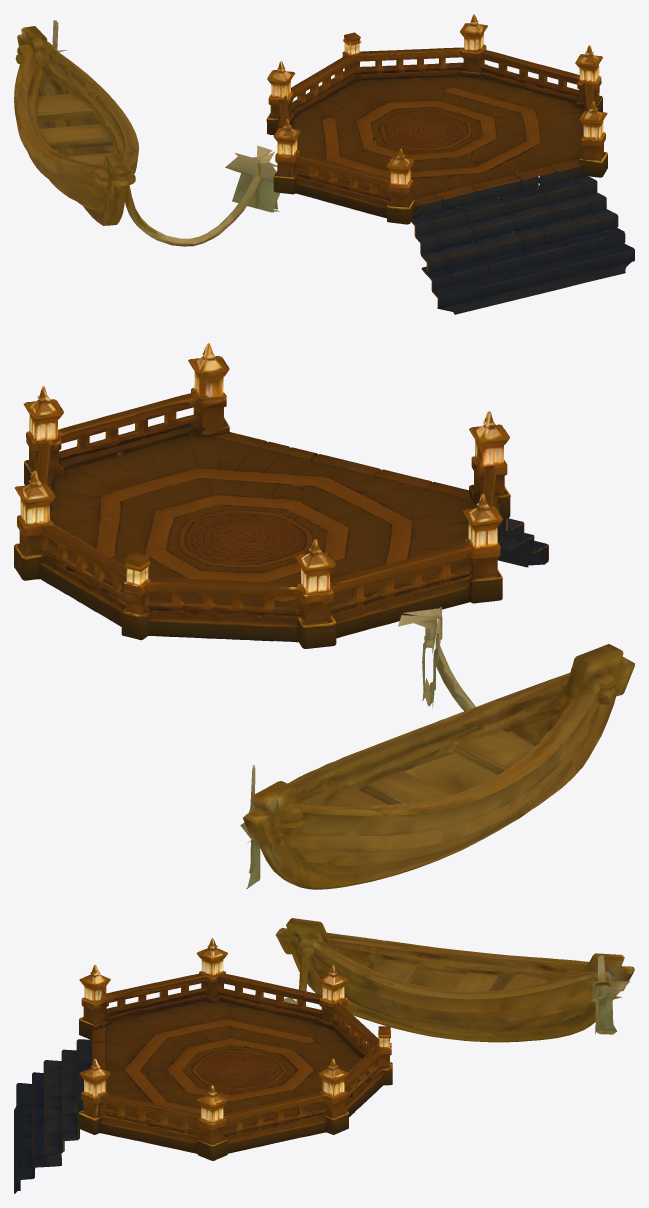
The model's file is hdr-vast.glb.
3 renders of one model, top to bottom at view 1: azimuth 30°, elevation 25°; view 2: azimuth 150°, elevation 25°; view 3: azimuth 270°, elevation 25°, orthographic. The views are drawn at different scales.
Parts seen in each view (by area): view 1: texture_pbr_v128.006; view 2: texture_pbr_v128.006; view 3: texture_pbr_v128.006.
Part boxes in pixels (x1,y1,x2,y2): texture_pbr_v128.006: (14, 14, 634, 314); texture_pbr_v128.006: (14, 343, 634, 889); texture_pbr_v128.006: (14, 918, 634, 1193).
Size of the model in its own units: 3.3 by 0.9753 by 3.89.
2 materials, 2 textured.
